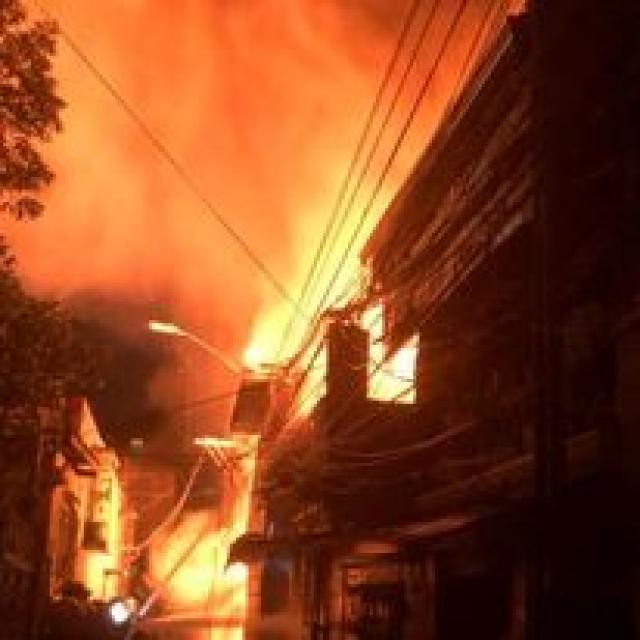Fire: (256, 278, 414, 414), (151, 508, 240, 618)
Smoke: (50, 3, 376, 231), (24, 207, 362, 315)
